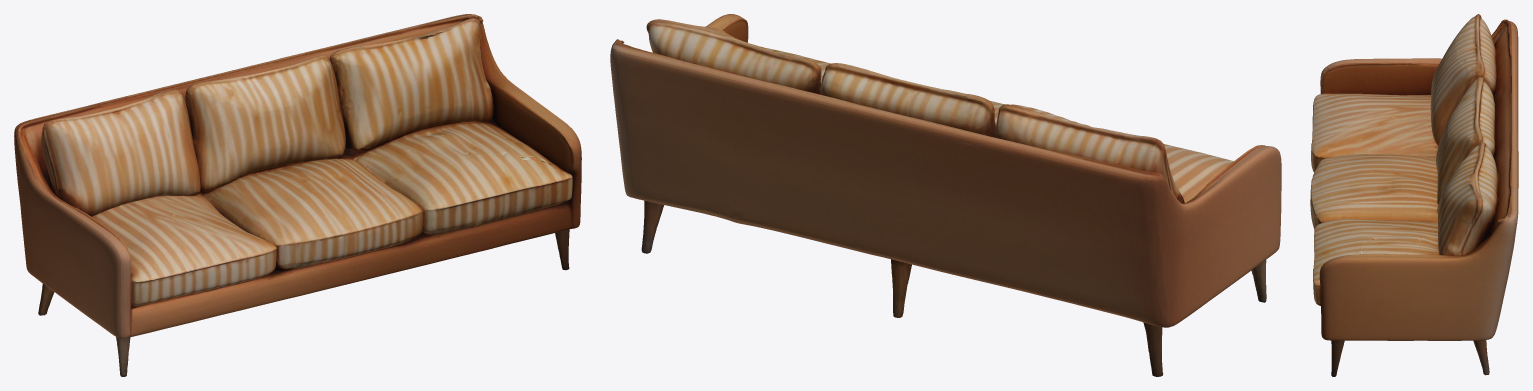
File: sofa.glb
3 renders of one model, left to right at view 1: azimuth 30°, elevation 25°; view 2: azimuth 150°, elevation 25°; view 3: azimuth 270°, elevation 25°, orthographic. The views are drawn at different scales.
Parts seen in each view (by area): view 1: sofa_s42_d.glb; view 2: sofa_s42_d.glb; view 3: sofa_s42_d.glb.
Part boxes in pixels (bbox=[...]): sofa_s42_d.glb: bbox=[14, 14, 581, 376]; sofa_s42_d.glb: bbox=[610, 14, 1281, 376]; sofa_s42_d.glb: bbox=[1310, 14, 1518, 376].
Size of the model in its own units: 2.2 by 0.88 by 0.95.
1 material, 1 textured.
